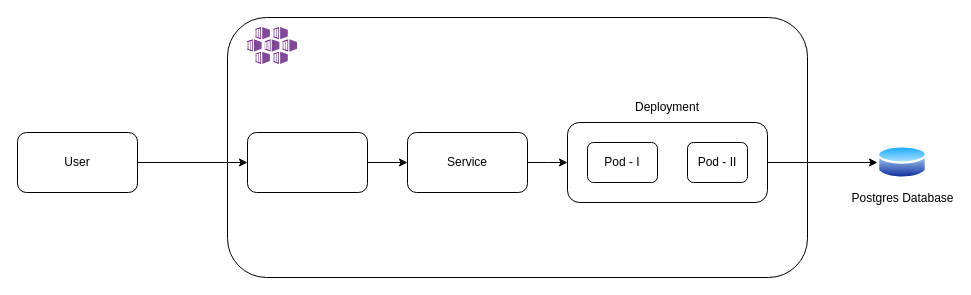
Some shapes in this 971 by 295 pixel diagram are drawn without their labels. The shapes that lost their labels are listed below. From the top down, each one's box as (x1, y1, x2, y2) in pixels, then its label:
(247, 27, 297, 64): K8s Cluster
(246, 132, 368, 192): Ingress
